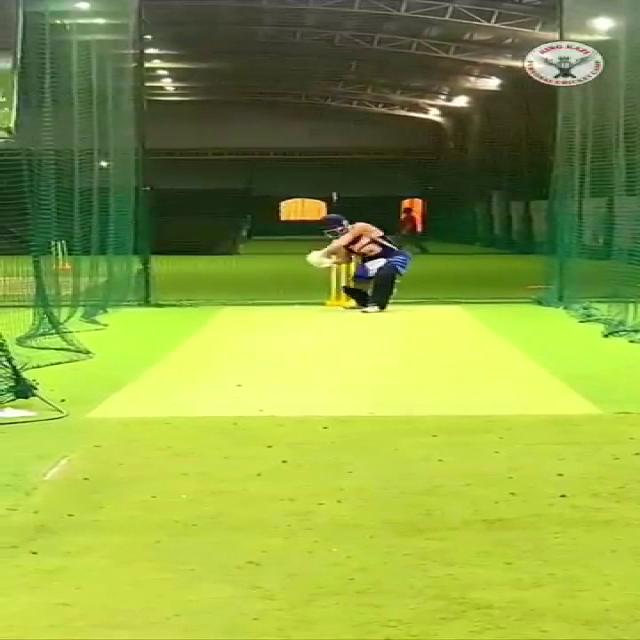batsman: (291, 210, 415, 317)
